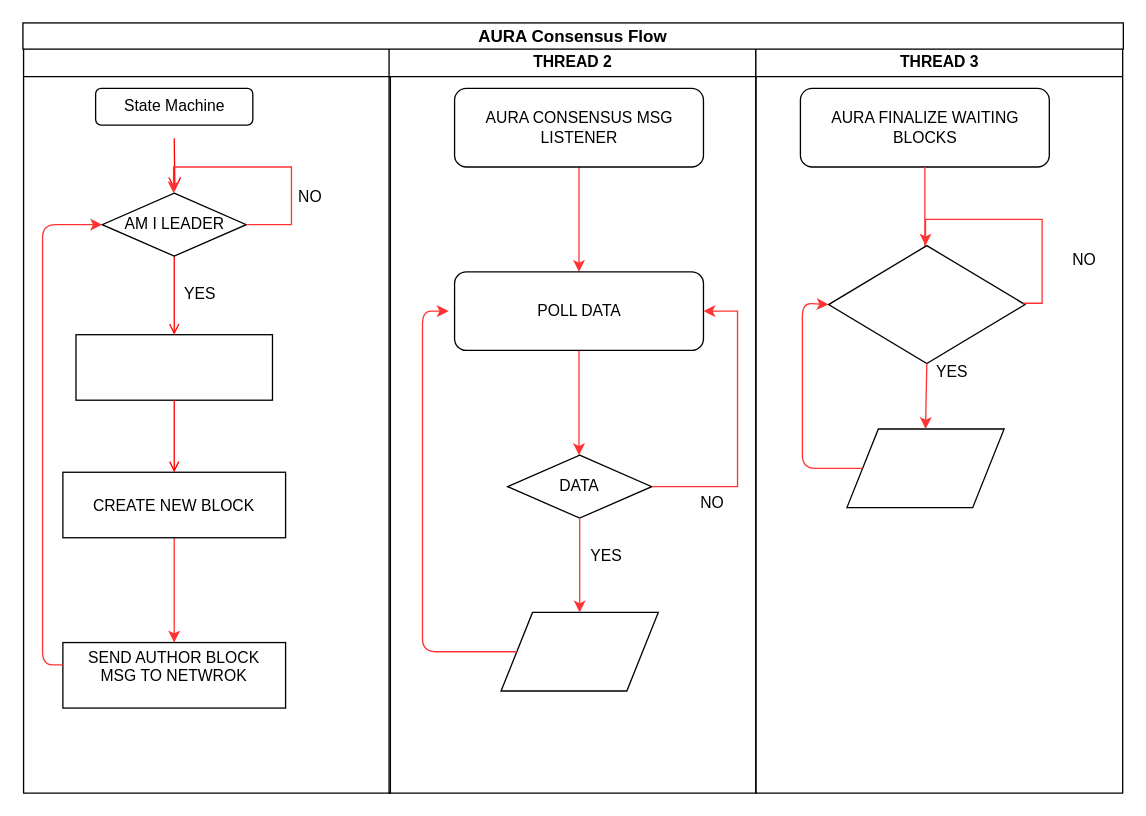
Some shapes in this 1146 by 816 pixel diagram are drawn without their labels. The shapes that lost their labels are listed below. From the top down, each one's box as (x1, y1, x2, y2) in pixels, then its label:
(827, 244, 1025, 364): BLOCK QUEUE SIZE CHECK
(75, 333, 272, 400): SEND ROUND OWNER MSG TO NETWORK
(22, 45, 390, 793): THREAD 1
(846, 428, 1004, 508): PROCESS BLOCKS
(500, 611, 658, 691): MSG Handler
